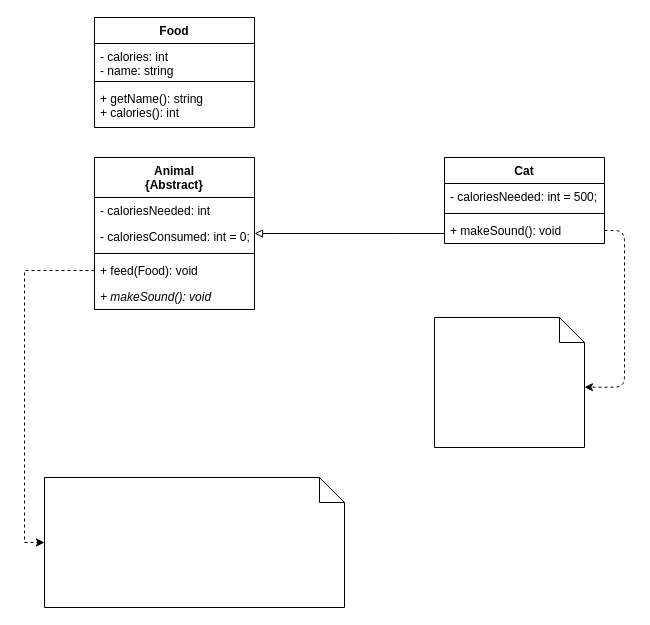
Image size: 650x625. Some labels were removed from this diagram. The shapes that lost their labels are listed below. From the top down, each one's centre as x and y in pixels, then its label:
At point (509, 382): "makeSound(): void { echo 'meow!'; }".
At point (194, 542): "feed(food): void { caloriesConsumed += food.calories(); }".
